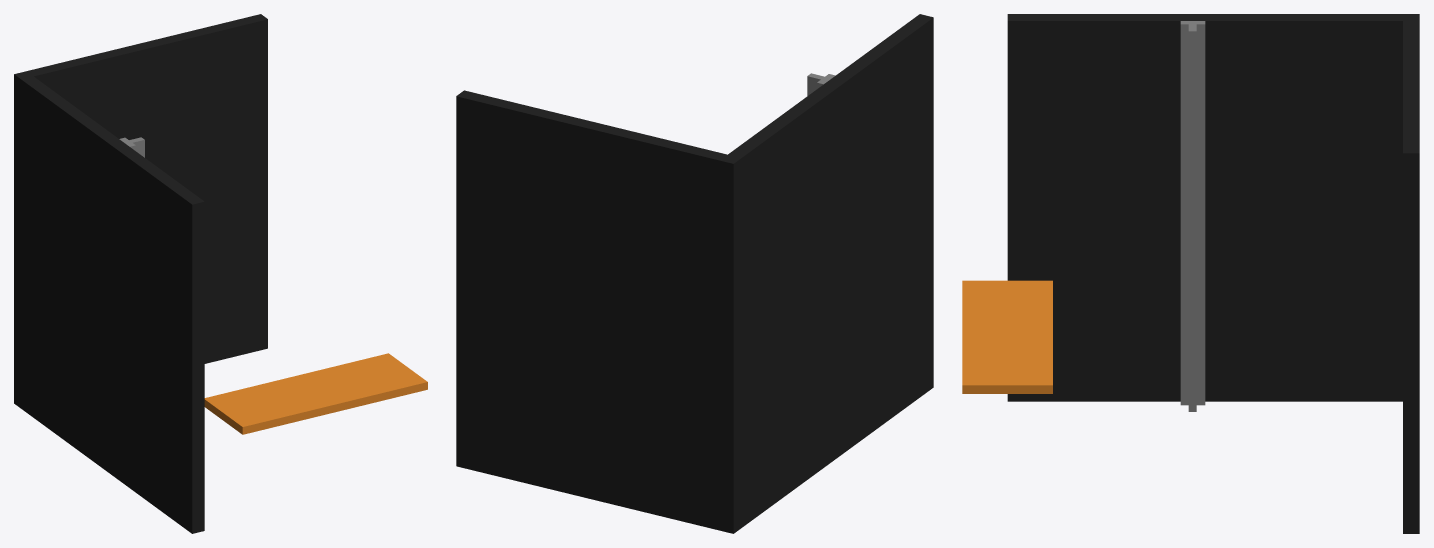
Rendered from stage.gltf.
3 views of the same model, side by side, from view 1: azimuth 30°, elevation 25°; view 2: azimuth 150°, elevation 25°; view 3: azimuth 270°, elevation 25° (orthographic). The views are drawn at different scales.
Visible parts, largest first — view 1: shaft_stage, bot_stage; view 2: shaft_stage; view 3: shaft_stage, bot_stage, rails.
Boxes of the visible parts, x1,y1,x2,y2 form: shaft_stage: [14, 14, 267, 533]; bot_stage: [204, 353, 427, 434]; shaft_stage: [456, 14, 933, 533]; shaft_stage: [1007, 14, 1419, 533]; bot_stage: [962, 280, 1052, 393]; rails: [1180, 21, 1205, 411].
Bounding box in the file's own units: 4 × 5.1 × 5.55.
